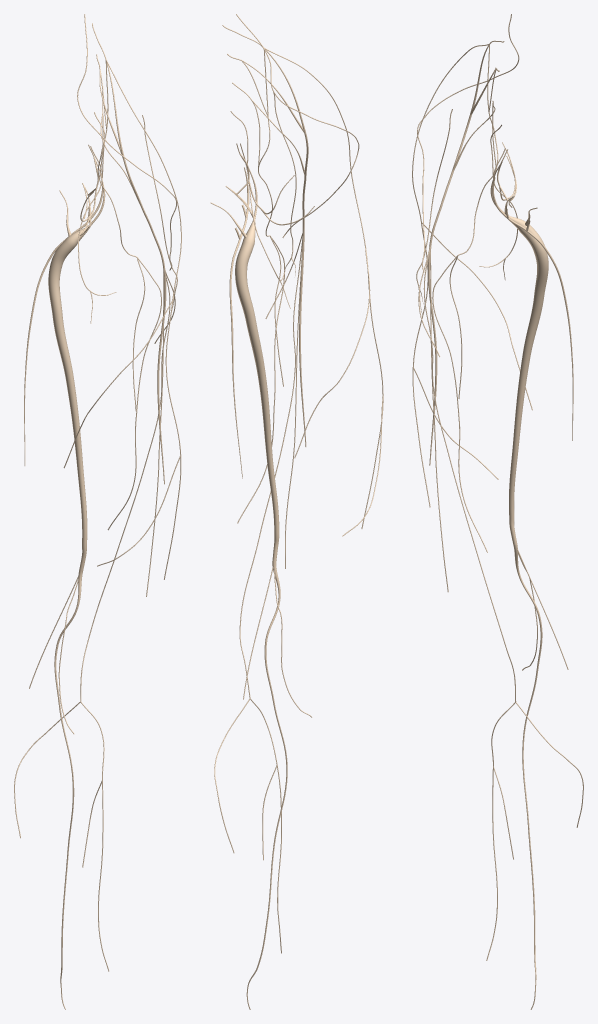
Rendered from nerves.glb.
The picture shows the model from 3 angles, left to right: view 1: azimuth 90°, elevation 25°; view 2: azimuth 150°, elevation 25°; view 3: azimuth 270°, elevation 25°; orthographic projection. The views are drawn at different scales.
Visible parts, largest first — view 1: Sciatic nerve.r, Saphenous nerve.r, Femoral nerve.r, Lateral femoral cutaneous nerve.r, Tibial nerve.r, Posterior femoral cutaneous nerve.r, Obturator nerve.r, Anterior cutaneous branches of femoral nerve.r, Ilio-inguinal nerve.r, Anterior branch of obturator nerve.r, Nerve to quadratus femoris muscle.r; view 2: Sciatic nerve.r, Saphenous nerve.r, Femoral nerve.r, Lateral femoral cutaneous nerve.r, Tibial nerve.r, Posterior femoral cutaneous nerve.r, Obturator nerve.r, Anterior cutaneous branches of femoral nerve.r, Ilio-inguinal nerve.r, Anterior branch of obturator nerve.r, Nerve to quadratus femoris muscle.r; view 3: Sciatic nerve.r, Saphenous nerve.r, Lateral femoral cutaneous nerve.r, Femoral nerve.r, Tibial nerve.r, Posterior femoral cutaneous nerve.r, Anterior cutaneous branches of femoral nerve.r, Obturator nerve.r, Anterior branch of obturator nerve.r, Ilio-inguinal nerve.r.
Part boxes in pixels (left/top/right/bottom): Sciatic nerve.r: left=48, top=144, right=105, bottom=571; Saphenous nerve.r: left=14, top=274, right=170, bottom=971; Femoral nerve.r: left=92, top=23, right=166, bottom=484; Lateral femoral cutaneous nerve.r: left=63, top=60, right=181, bottom=579; Tibial nerve.r: left=54, top=570, right=82, bottom=1009; Posterior femoral cutaneous nerve.r: left=24, top=173, right=103, bottom=465; Obturator nerve.r: left=97, top=60, right=136, bottom=257; Anterior cutaneous branches of femoral nerve.r: left=146, top=272, right=164, bottom=596; Ilio-inguinal nerve.r: left=77, top=14, right=176, bottom=270; Anterior branch of obturator nerve.r: left=107, top=257, right=161, bottom=530; Nerve to quadratus femoris muscle.r: left=78, top=112, right=116, bottom=323; Sciatic nerve.r: left=210, top=143, right=279, bottom=562; Saphenous nerve.r: left=214, top=237, right=302, bottom=953; Femoral nerve.r: left=222, top=25, right=308, bottom=446; Lateral femoral cutaneous nerve.r: left=264, top=48, right=383, bottom=536; Tibial nerve.r: left=246, top=562, right=287, bottom=1009; Posterior femoral cutaneous nerve.r: left=229, top=167, right=249, bottom=478; Obturator nerve.r: left=232, top=50, right=272, bottom=236; Anterior cutaneous branches of femoral nerve.r: left=285, top=236, right=303, bottom=568; Ilio-inguinal nerve.r: left=236, top=14, right=359, bottom=237; Anterior branch of obturator nerve.r: left=237, top=237, right=285, bottom=523; Nerve to quadratus femoris muscle.r: left=225, top=111, right=290, bottom=308; Sciatic nerve.r: left=490, top=149, right=548, bottom=544; Saphenous nerve.r: left=423, top=251, right=583, bottom=960; Lateral femoral cutaneous nerve.r: left=412, top=44, right=532, bottom=507; Femoral nerve.r: left=428, top=40, right=504, bottom=465; Tibial nerve.r: left=513, top=544, right=542, bottom=1009; Posterior femoral cutaneous nerve.r: left=492, top=177, right=573, bottom=440; Anterior cutaneous branches of femoral nerve.r: left=430, top=252, right=448, bottom=592; Obturator nerve.r: left=458, top=44, right=498, bottom=255; Anterior branch of obturator nerve.r: left=432, top=255, right=487, bottom=552; Ilio-inguinal nerve.r: left=417, top=14, right=519, bottom=272.
Size of the model in its own units: 0.1475 by 1.06 by 0.1643.
